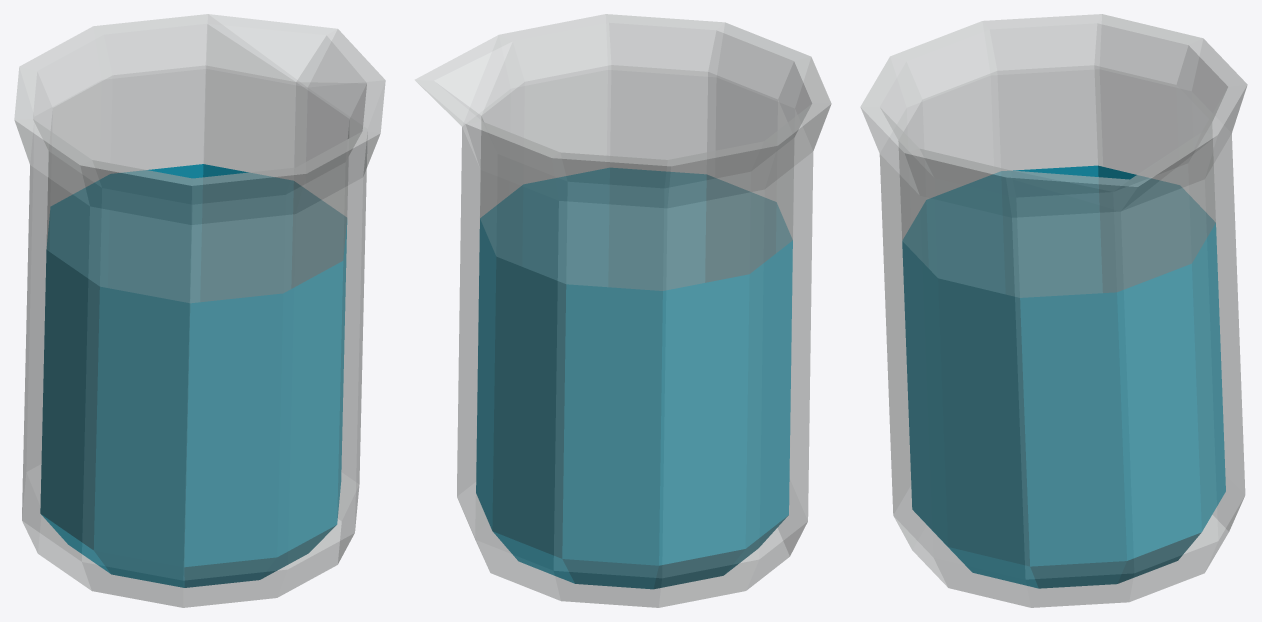
The model's file is MrBeeker.fbx.
3 views of the same model, side by side, from view 1: azimuth 30°, elevation 25°; view 2: azimuth 150°, elevation 25°; view 3: azimuth 270°, elevation 25° (orthographic).
Parts seen in each view (by area): view 1: polySurface501; view 2: polySurface501; view 3: polySurface501.
Part boxes in pixels (<box>): polySurface501: <box>14,14,385,607</box>; polySurface501: <box>415,14,831,607</box>; polySurface501: <box>860,14,1247,607</box>.
Size of the model in its own units: 0.1339 by 0.1701 by 0.1306.
